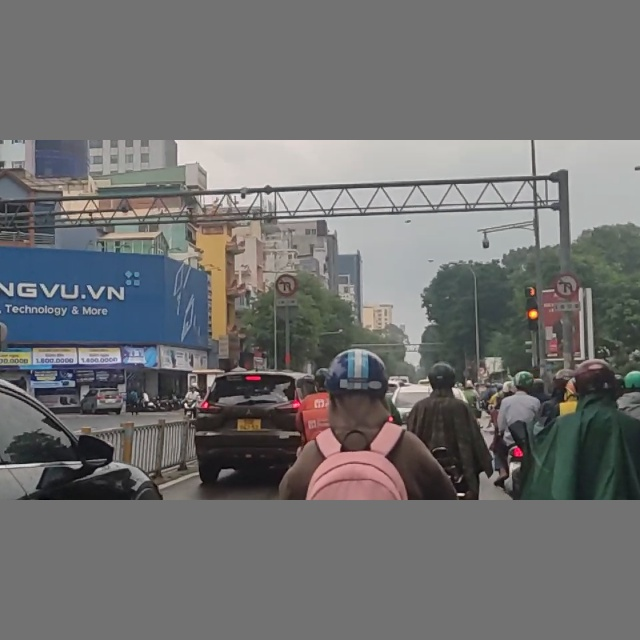P.124c: (276, 273, 299, 296), (555, 276, 577, 298)
